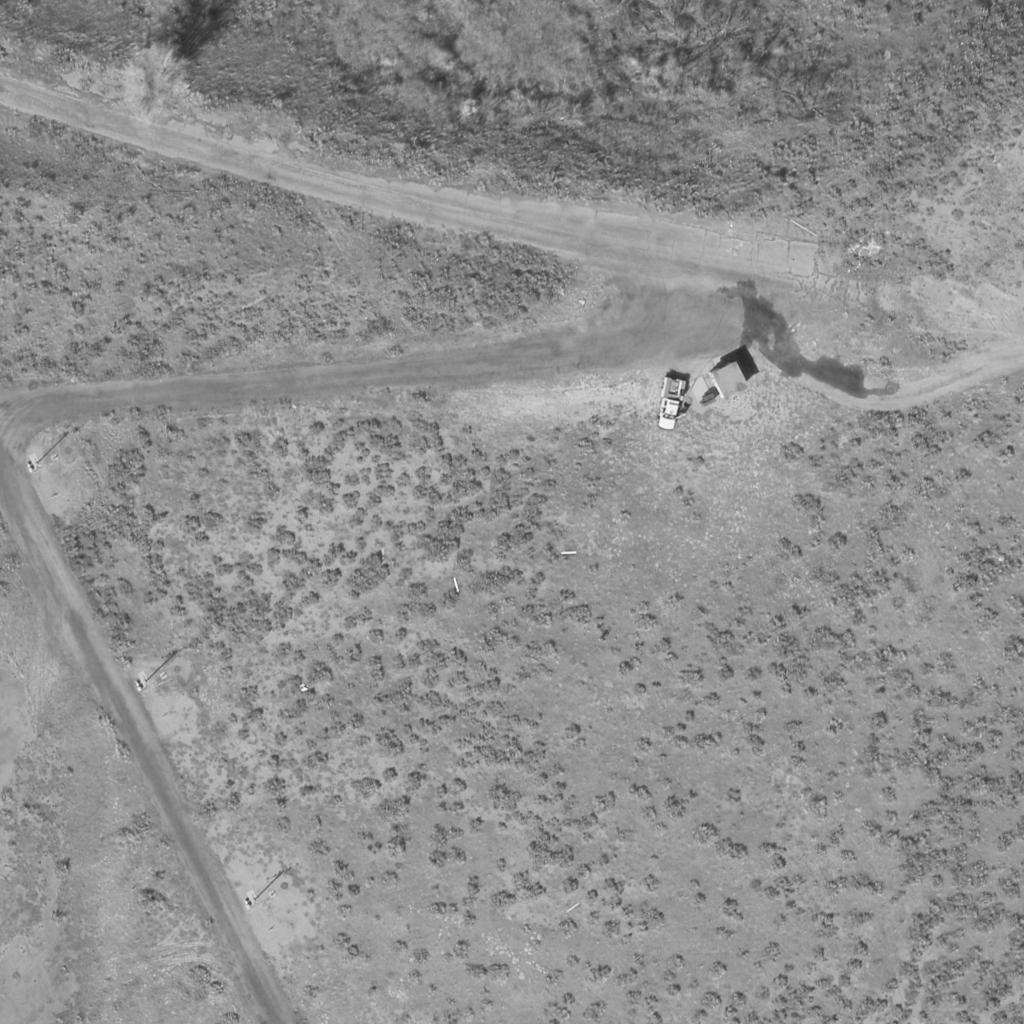vehicle: (655, 374, 691, 430)
